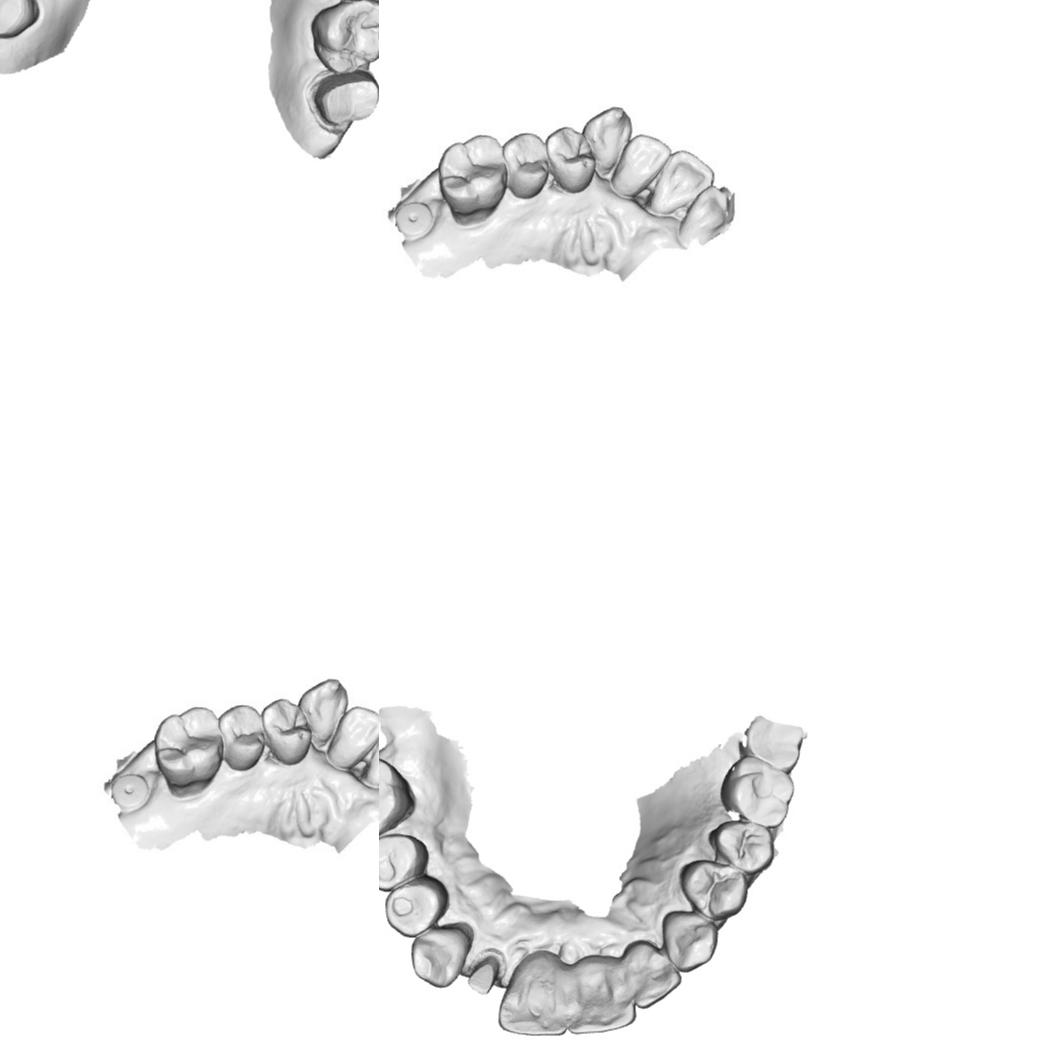canine: (409, 922, 475, 989), (662, 910, 720, 973), (585, 106, 630, 173), (301, 678, 346, 745)
crown: (308, 71, 379, 131), (466, 954, 501, 997)
implant: (396, 200, 432, 238), (112, 772, 148, 810)
incisor: (496, 948, 573, 1037), (567, 953, 635, 1036), (645, 150, 715, 216), (621, 939, 683, 1010), (608, 132, 671, 197), (676, 183, 735, 246), (324, 704, 379, 769), (361, 722, 379, 788)
molar: (300, 0, 379, 78), (437, 132, 509, 217), (153, 704, 225, 789), (718, 754, 796, 830), (379, 756, 416, 843), (0, 0, 39, 40)
premolar: (383, 873, 451, 939), (679, 858, 748, 923), (708, 819, 776, 877), (503, 129, 553, 199), (219, 701, 269, 771), (545, 125, 594, 193), (261, 697, 310, 765), (379, 833, 431, 893)
